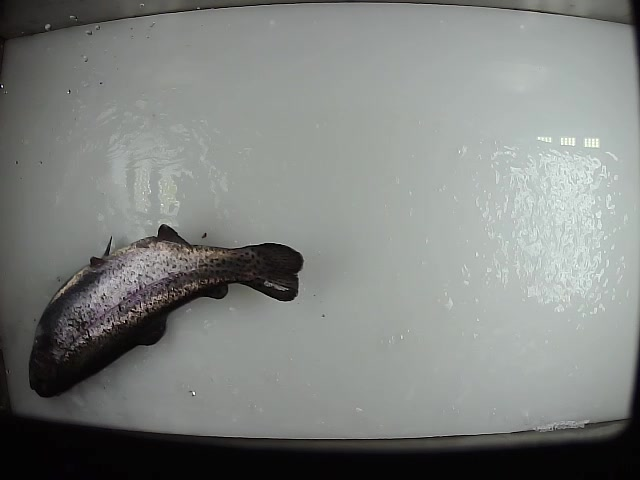fish: (27, 220, 305, 400)
